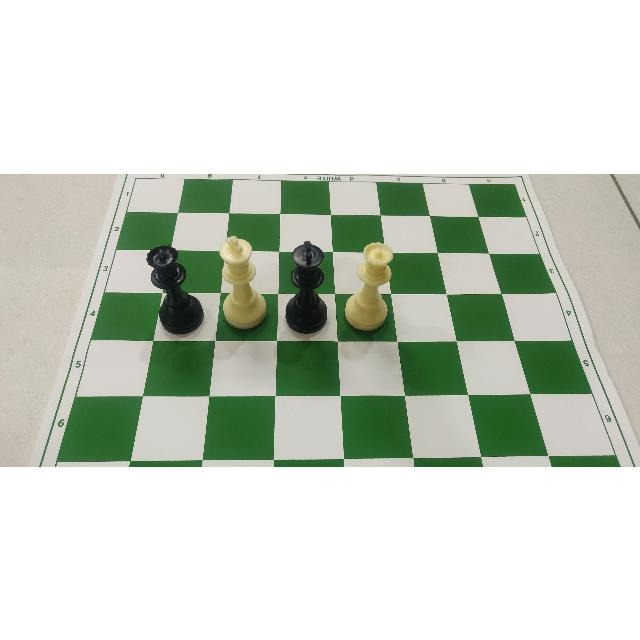black-king: (285, 239, 329, 335)
black-queen: (146, 242, 204, 334)
white-king: (218, 234, 268, 332)
white-queen: (346, 241, 396, 333)
